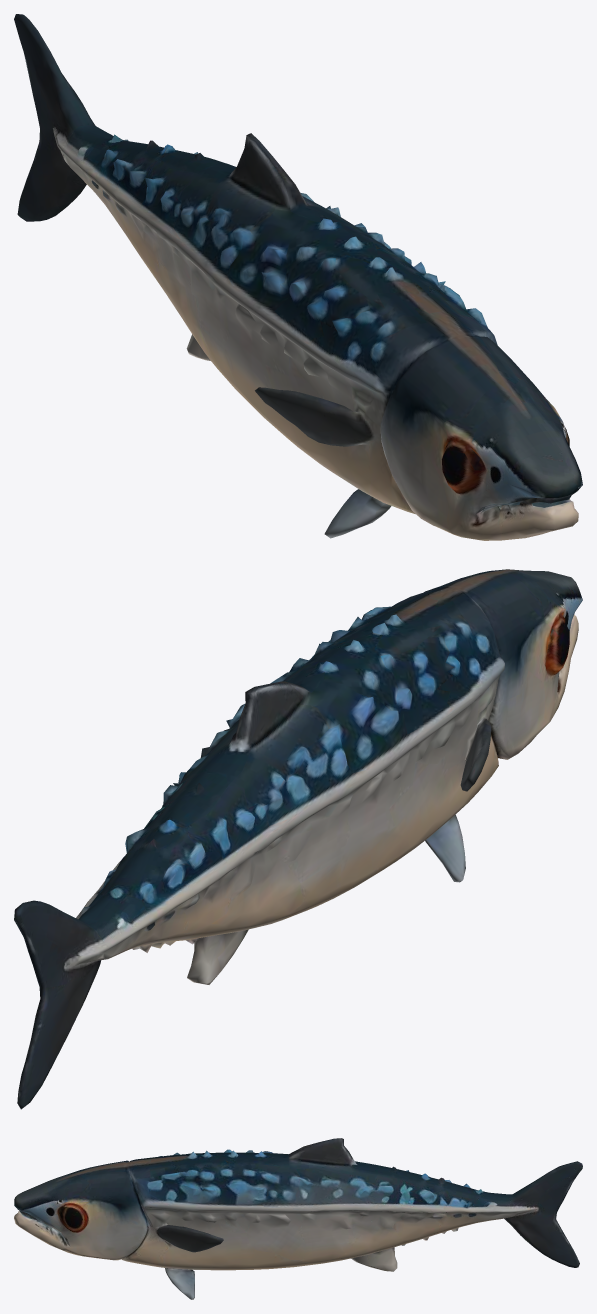
File: samchi.glb
3 renders of one model, top to bottom at view 1: azimuth 30°, elevation 25°; view 2: azimuth 150°, elevation 25°; view 3: azimuth 270°, elevation 25°, orthographic. The views are drawn at different scales.
Parts seen in each view (by area): view 1: tripo_node_d1fa62ef-7297-4f70-8ec7-8da09216413e; view 2: tripo_node_d1fa62ef-7297-4f70-8ec7-8da09216413e; view 3: tripo_node_d1fa62ef-7297-4f70-8ec7-8da09216413e.
Part boxes in pixels (x1,y1,x2,y2): tripo_node_d1fa62ef-7297-4f70-8ec7-8da09216413e: (14, 14, 582, 540); tripo_node_d1fa62ef-7297-4f70-8ec7-8da09216413e: (14, 569, 582, 1109); tripo_node_d1fa62ef-7297-4f70-8ec7-8da09216413e: (14, 1138, 582, 1299).
Bounding box in the file's own units: 0.2288 × 0.282 × 0.9998.
Materials: 1 (1 with a texture image).
